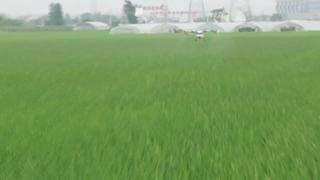UAV: (183, 29, 218, 42)
